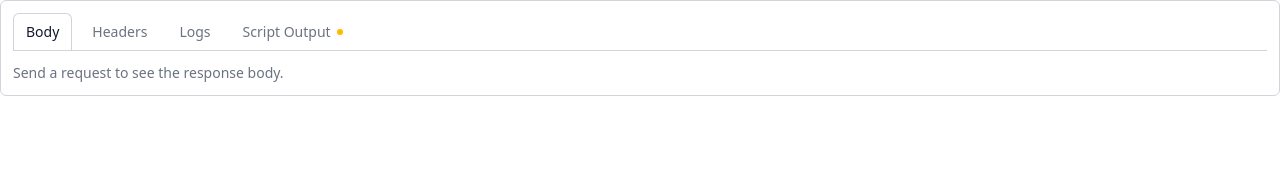
Scenario: ResponseViewer Script Output tab › renders even with no response when a script produced output
Click the button "Script Output": [293, 32] box [231,13,355,50]
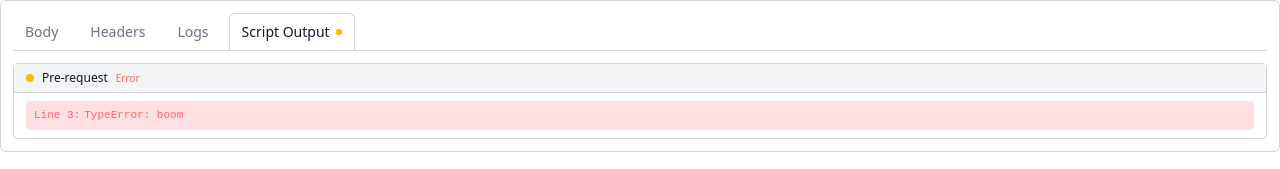
Now the text "Line 3:TypeError: boom" is shown, box [34,109,183,121]
Now the text "Line 3:" is shown, box [34,109,80,121]
